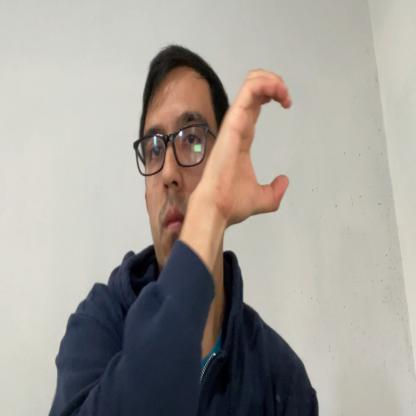C: (225, 66, 293, 225)
